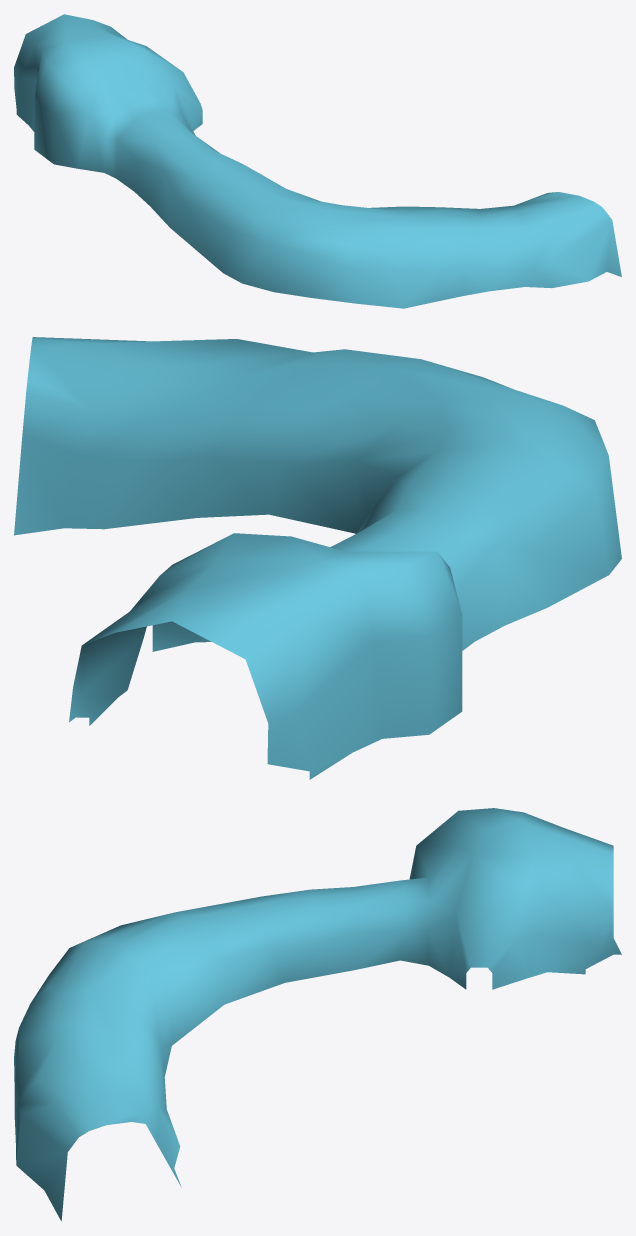
File: cluster_11.fbx
3 views of the same model, one above another, from view 1: azimuth 30°, elevation 25°; view 2: azimuth 150°, elevation 25°; view 3: azimuth 270°, elevation 25° (orthographic). The views are drawn at different scales.
Parts seen in each view (by area): view 1: cluster_11; view 2: cluster_11; view 3: cluster_11.
Part boxes in pixels (left/top/right/bottom): cluster_11: left=14, top=14, right=621, bottom=308; cluster_11: left=14, top=337, right=621, bottom=779; cluster_11: left=14, top=808, right=621, bottom=1221.
Bounding box in the file's own units: 284190 × 119393 × 326338.
